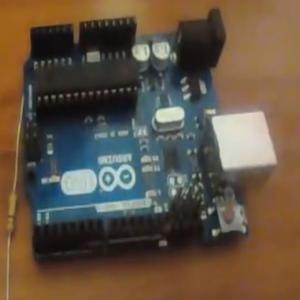duino: (12, 12, 275, 264)
